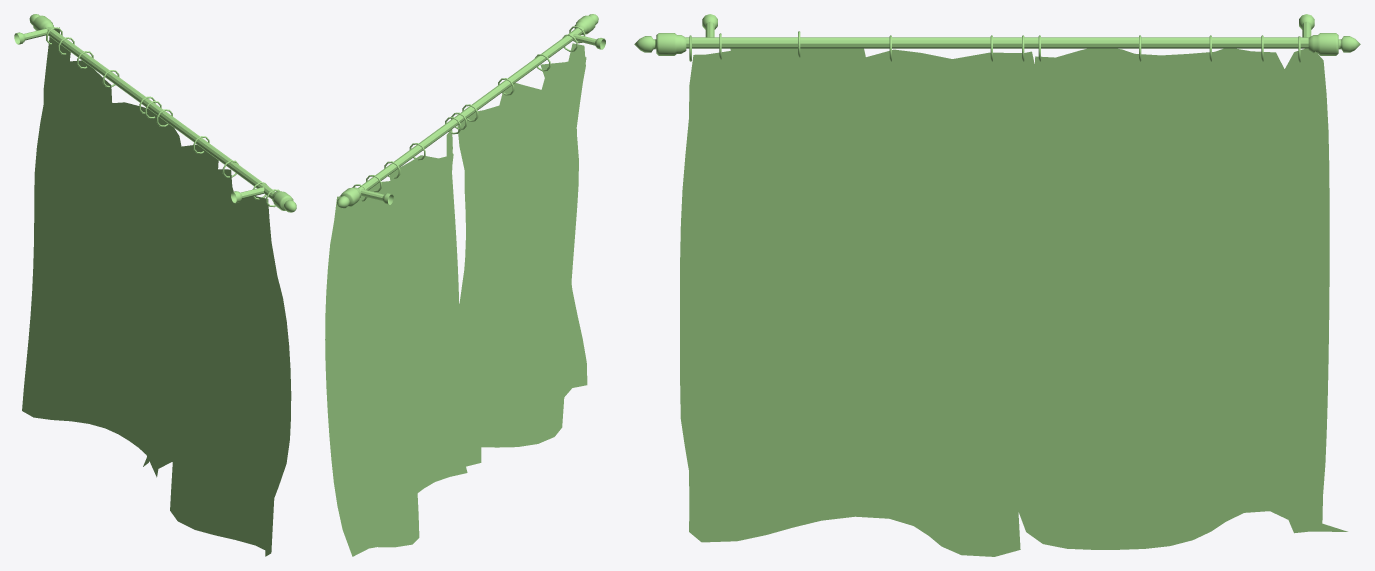
Rendered from curtain_new.fbx.
3 views of the same model, side by side, from view 1: azimuth 30°, elevation 25°; view 2: azimuth 150°, elevation 25°; view 3: azimuth 270°, elevation 25° (orthographic). The views are drawn at different scales.
Visible parts, largest first — view 1: polySurface120; view 2: polySurface120; view 3: polySurface120.
Part boxes in pixels (x1,y1,x2,y2): polySurface120: [14, 14, 296, 556]; polySurface120: [325, 14, 605, 556]; polySurface120: [634, 14, 1360, 556].
Size of the model in its own units: 0.527 by 2.66 by 3.43.
